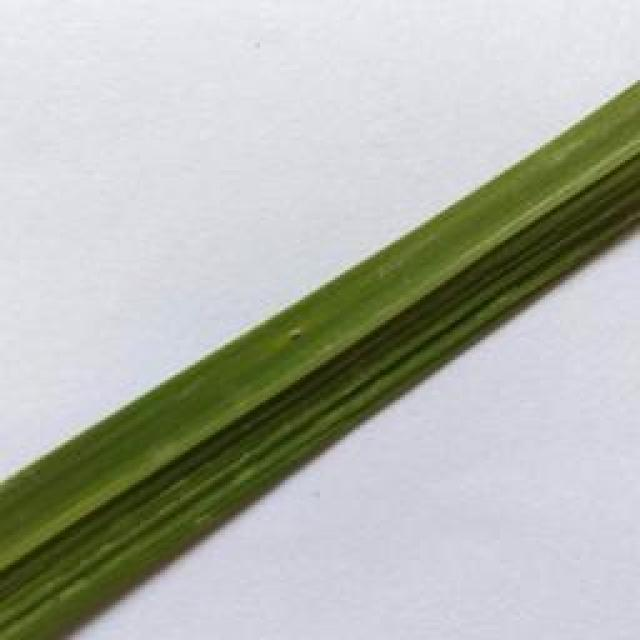Healthy-Plant: (2, 75, 640, 640)
